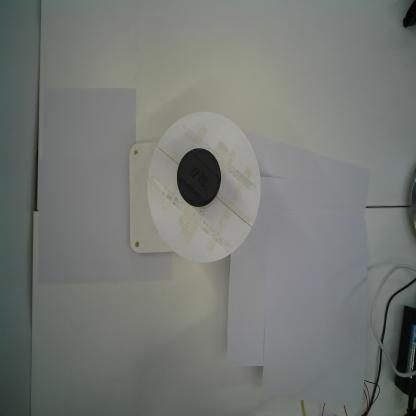Canned Food: (176, 148, 222, 210)
